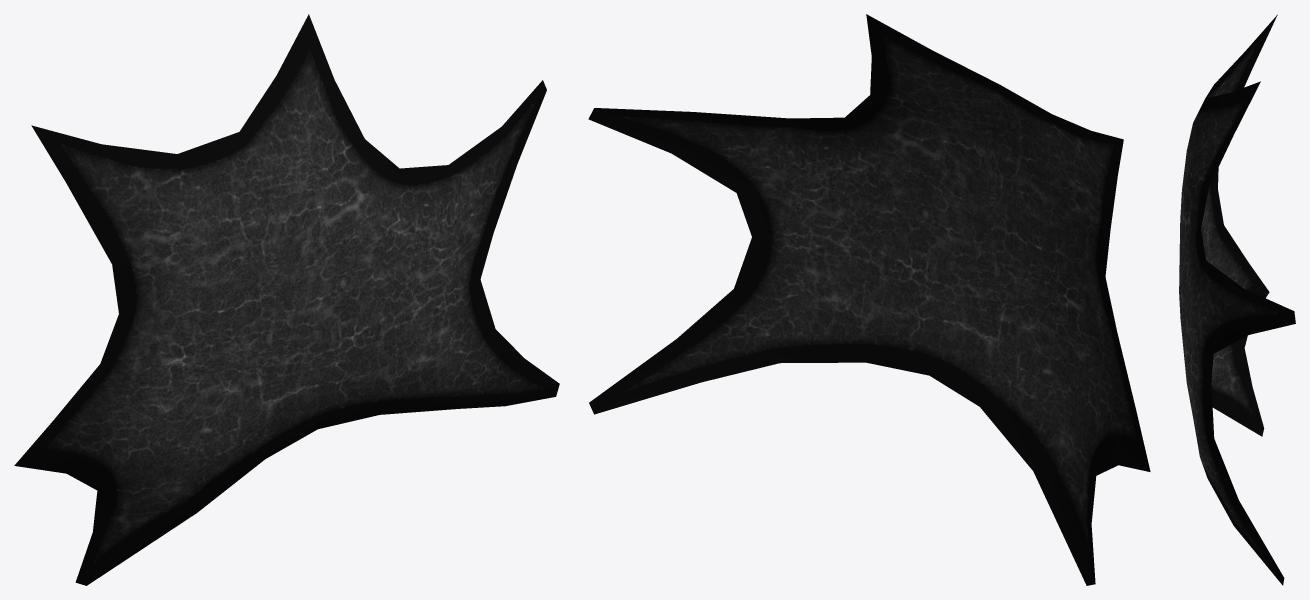
Rendered from cobwebs_03.dae.
3 views of the same model, side by side, from view 1: azimuth 30°, elevation 25°; view 2: azimuth 150°, elevation 25°; view 3: azimuth 270°, elevation 25° (orthographic). The views are drawn at different scales.
Visible parts, largest first — view 1: cobweb_3; view 2: cobweb_3; view 3: cobweb_3.
Part boxes in pixels (x1=…): cobweb_3: x1=14, y1=14, x2=559, y2=585; cobweb_3: x1=588, y1=14, x2=1150, y2=585; cobweb_3: x1=1179, y1=14, x2=1295, y2=585.
Bounding box in the file's own units: 0.888 × 0.7937 × 0.1871.
